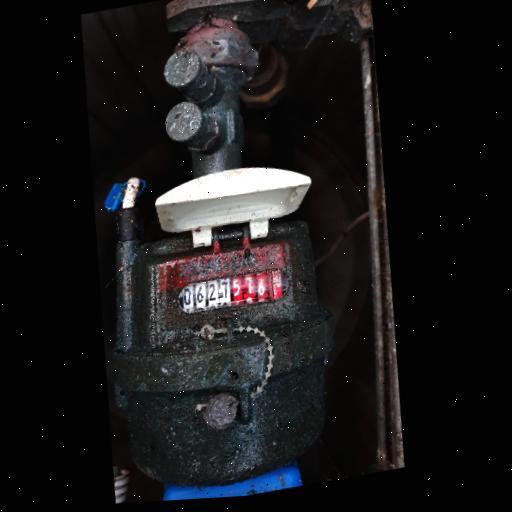0: (270, 268, 284, 299), (182, 285, 195, 314)
2: (205, 279, 219, 310)
5: (230, 275, 244, 306)
6: (255, 271, 270, 301), (194, 281, 208, 312)
7: (242, 273, 256, 304), (219, 277, 231, 308)
border_water_meter_number: (175, 264, 292, 316)
